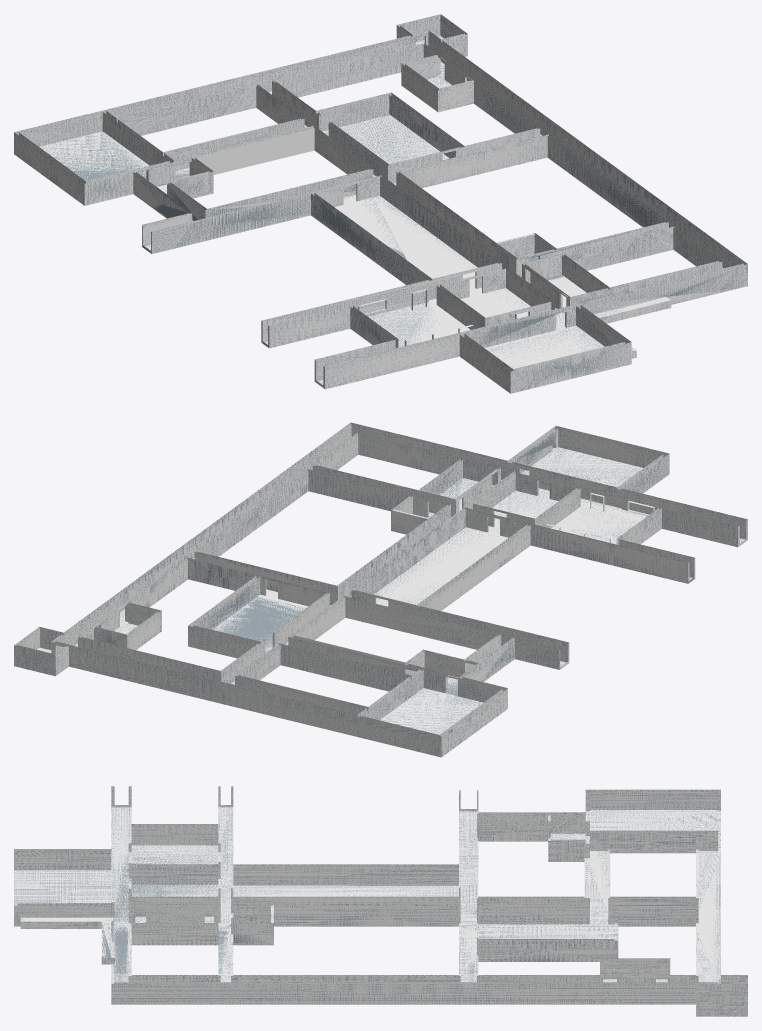
Rendered from level1.dae.
3 views of the same model, one above another, from view 1: azimuth 30°, elevation 25°; view 2: azimuth 150°, elevation 25°; view 3: azimuth 270°, elevation 25° (orthographic). The views are drawn at different scales.
Parts seen in each view (by area): view 1: SketchUp (×4); view 2: SketchUp (×3); view 3: SketchUp (×3).
Boxes of the visible parts, bbox=[...] form: SketchUp (×4): bbox=[14, 14, 747, 393]; SketchUp (×3): bbox=[14, 422, 747, 757]; SketchUp (×3): bbox=[14, 786, 747, 1016].
Size of the model in its own units: 2930 by 4342 by 138.
